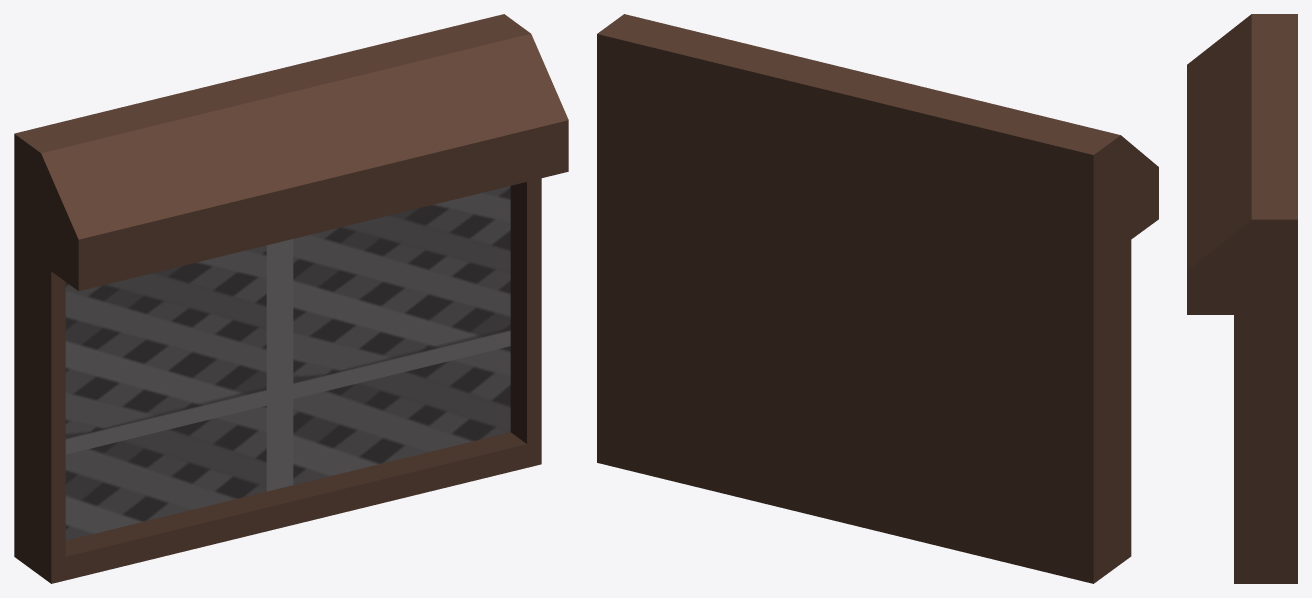
File: Window_E11.fbx
The picture shows the model from 3 angles, left to right: view 1: azimuth 30°, elevation 25°; view 2: azimuth 150°, elevation 25°; view 3: azimuth 270°, elevation 25°; orthographic projection. The views are drawn at different scales.
Parts seen in each view (by area): view 1: Window_E11; view 2: Window_E11; view 3: Window_E11.
Boxes of the visible parts, bbox=[...] form: Window_E11: bbox=[14, 14, 568, 583]; Window_E11: bbox=[597, 14, 1158, 583]; Window_E11: bbox=[1187, 14, 1297, 583].
Size of the model in its own units: 134 by 111 by 30.53.
Materials: 1 (1 with a texture image).
